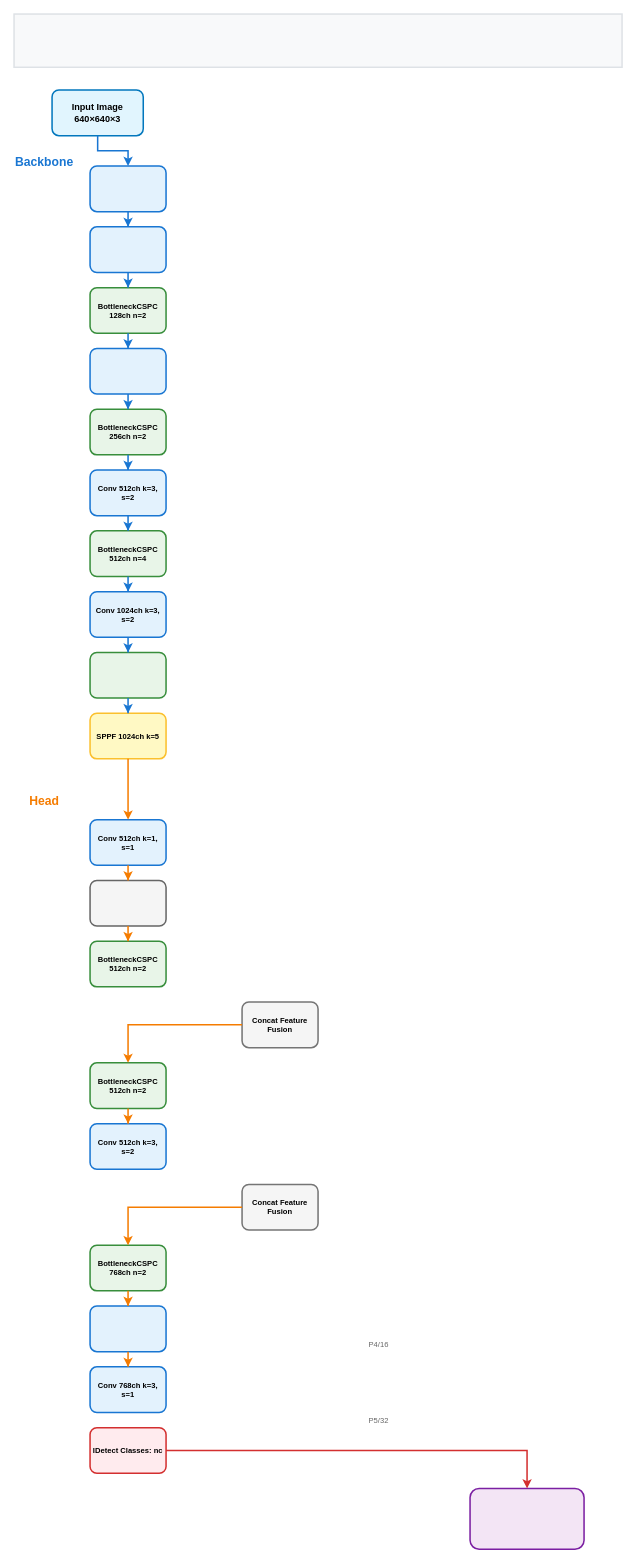
This 635x1563 diagram has some shape labels left out. Each missing label, with the box of its shape:
BottleneckCSPC 1024ch n=2: (89, 651, 166, 698)
Conv 128ch k=3, s=2: (89, 226, 166, 273)
Conv 256ch k=3, s=2: (89, 347, 166, 394)
Conv 512ch k=3, s=1: (89, 1305, 166, 1352)
Conv 64ch k=3, s=2: (89, 165, 166, 212)
Detection Output Bounding Boxes Class Predictions: (469, 1487, 584, 1550)
Upsample ×2: (89, 879, 166, 926)
YOLOv4-CSP-IDetect Baseline CSP-DarkNet + IDetect Head: (13, 13, 622, 68)
